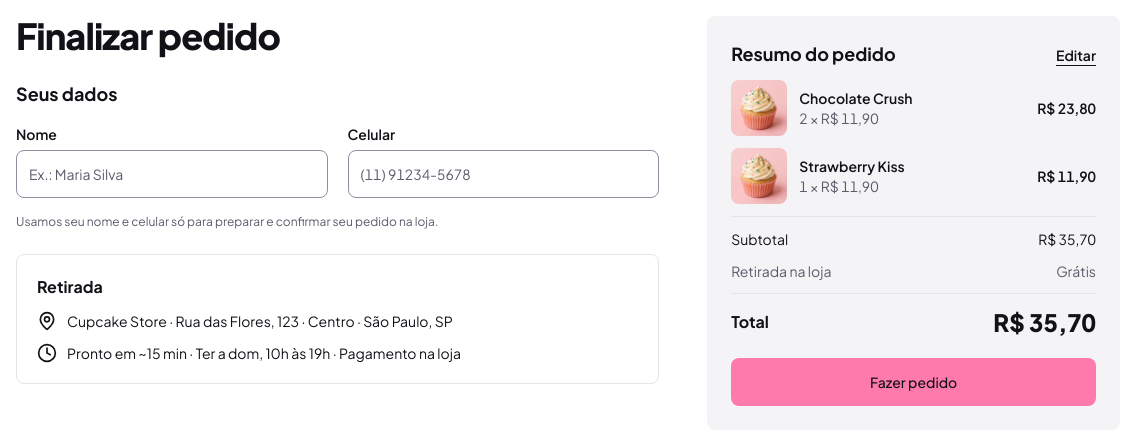
Scenario: US-12 validation messages › AC1: shows the name message on blur, and the order is not created
expect the heading "Resumo do pedido" is shown: met, box [731, 40, 896, 68]
Type "A" into the field labelled "Nome" at coordinates (172, 174), box [16, 150, 328, 198]
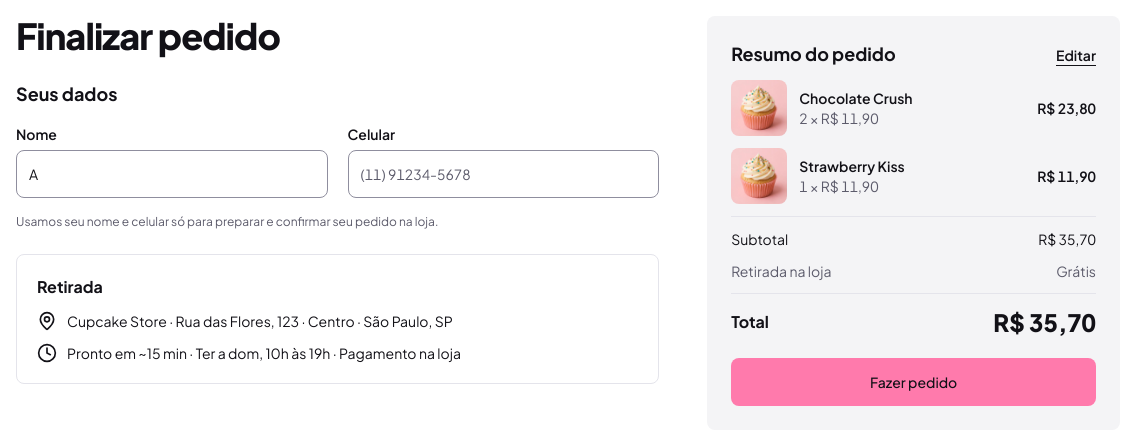
Leave the field labelled "Nome", box [16, 150, 328, 198]
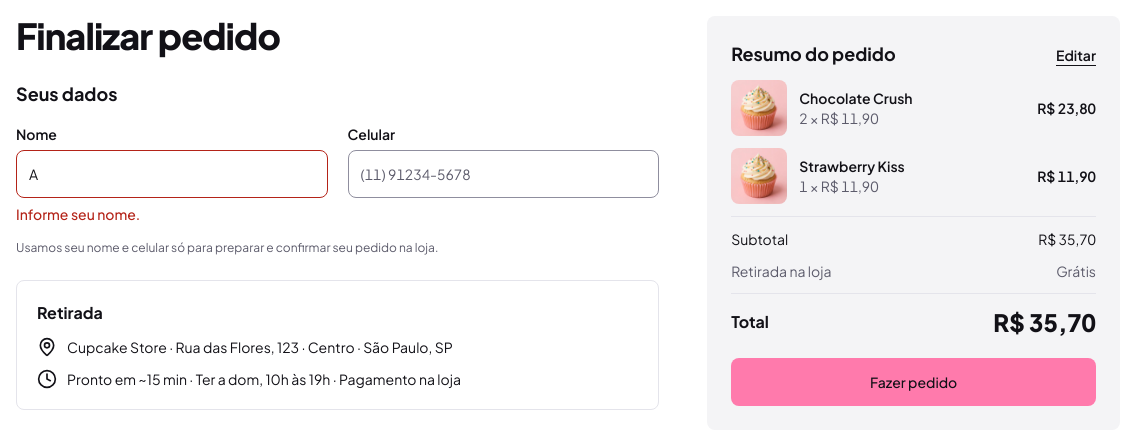
expect the text "Informe seu nome." is shown: met, box [16, 205, 140, 223]
